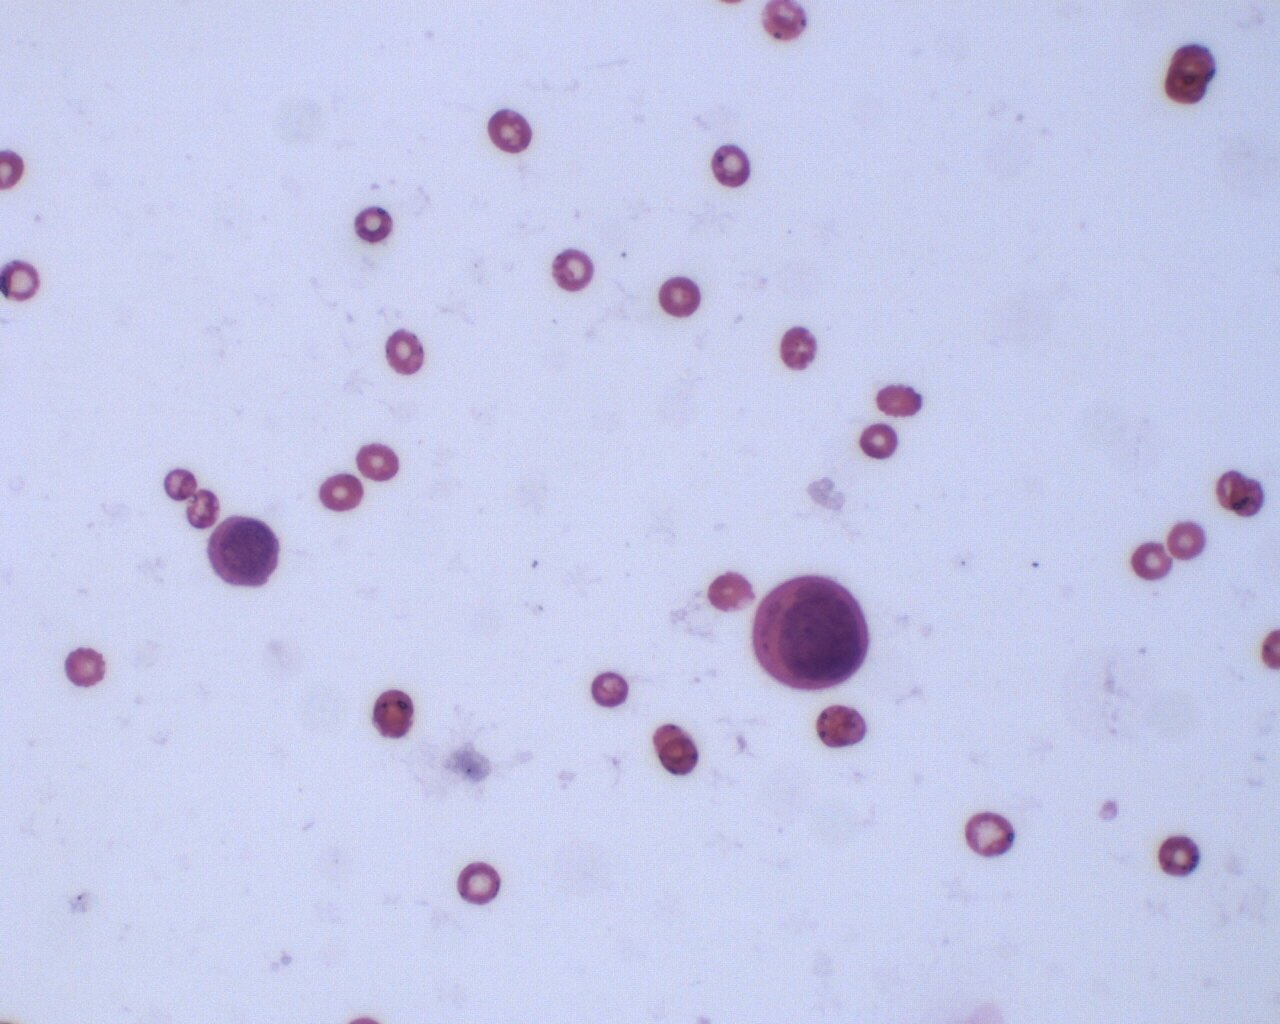ab: (745, 572, 872, 696), (203, 511, 288, 596)
